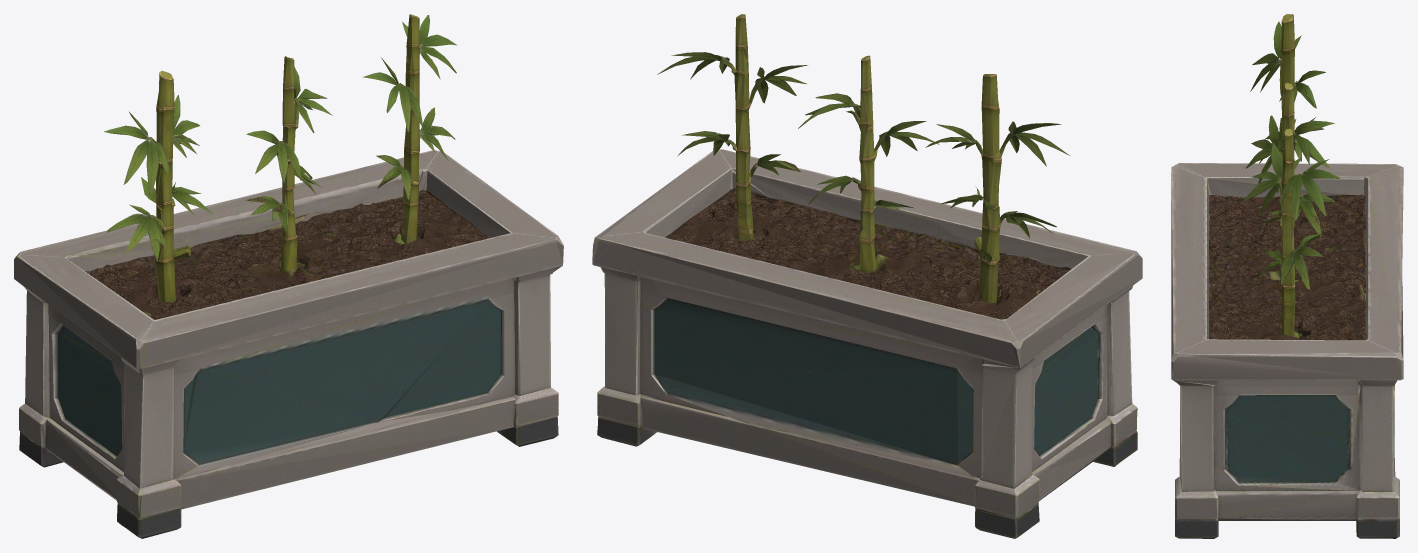
Rendered from bambooPlanter.glb.
The picture shows the model from 3 angles, left to right: view 1: azimuth 30°, elevation 25°; view 2: azimuth 150°, elevation 25°; view 3: azimuth 270°, elevation 25°; orthographic projection. The views are drawn at different scales.
Visible parts, largest first — view 1: Mesh_0; view 2: Mesh_0; view 3: Mesh_0.
Part boxes in pixels (bbox=[...]): Mesh_0: bbox=[14, 14, 563, 538]; Mesh_0: bbox=[592, 14, 1142, 538]; Mesh_0: bbox=[1171, 14, 1403, 538].
Bounding box in the file's own units: 0.5553 × 0.5 × 0.2816.
Materials: 1 (1 with a texture image).
